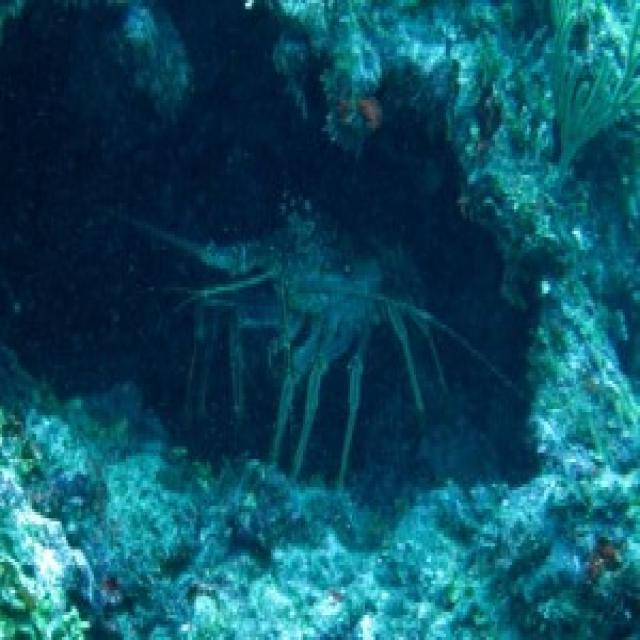lobsters: (120, 124, 572, 548)
